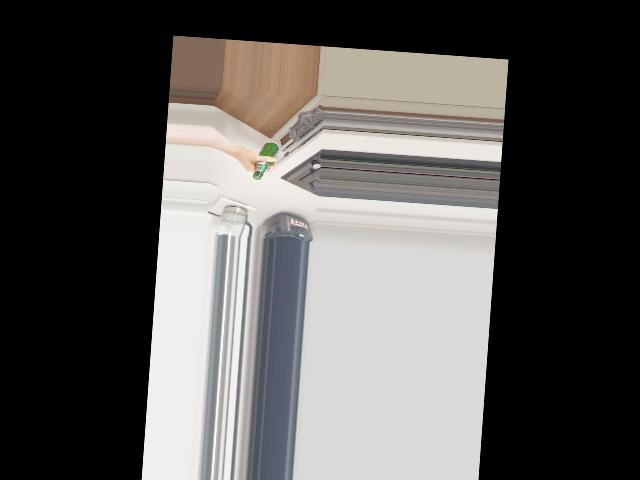beer: (252, 140, 279, 180)
